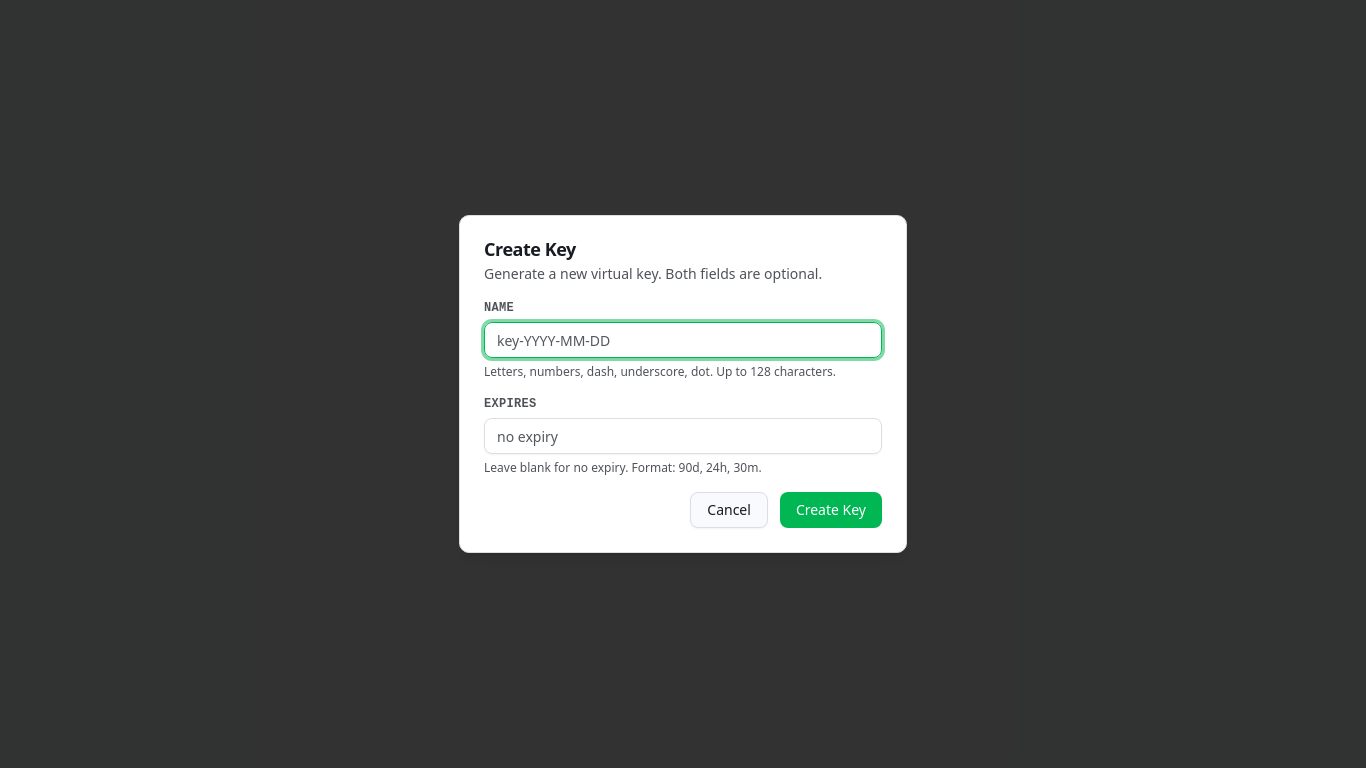
it: CreateKeyModal — server error routing › a 422 rejection routes the detail to the alias field (form stays open)
The image size is (1366, 768).
What coordinates should you click on to do the following:
click the button "Create Key"
I would click on:
 (831, 510)
Its box is [780,492,882,528].
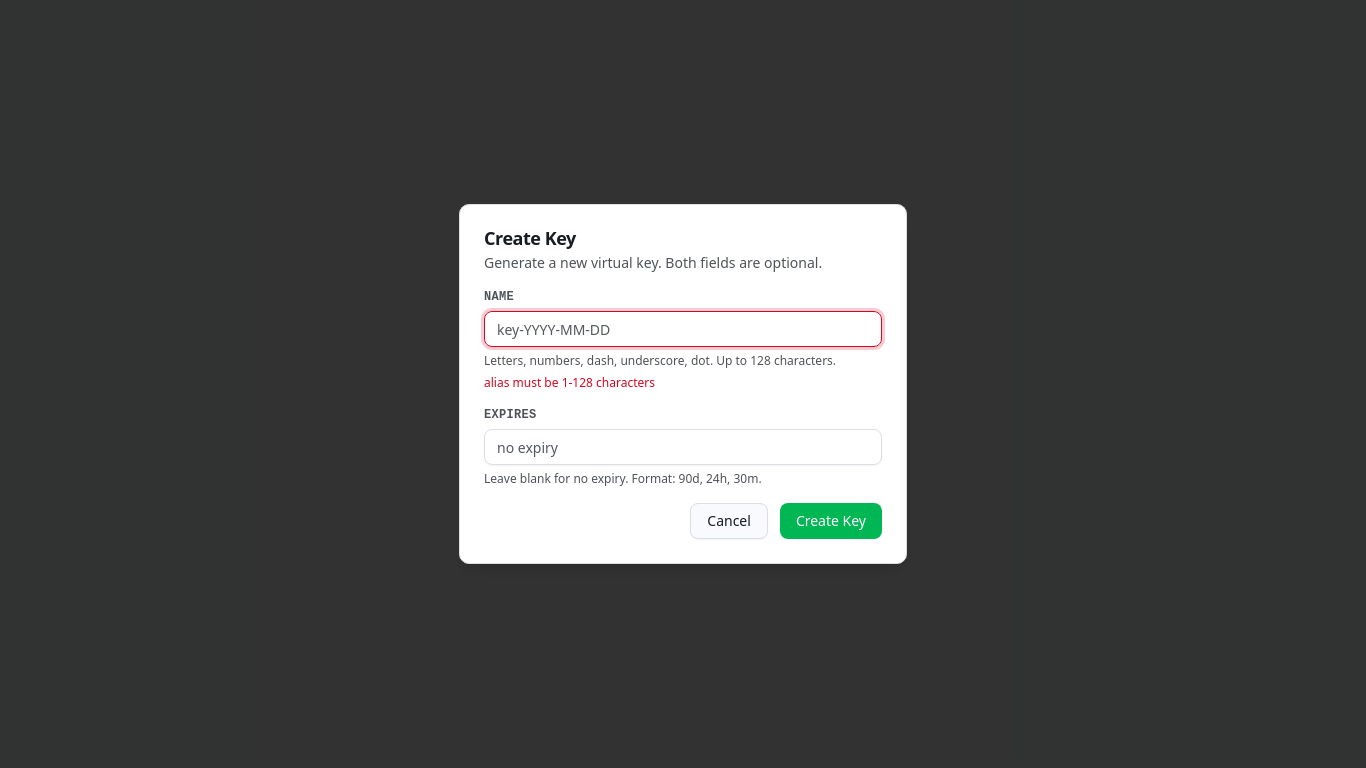
Expected: the button "Create Key" is shown, [780,503,882,539]
Expected: the text "alias must be 1-128 characters" is shown, [484,374,655,391]
